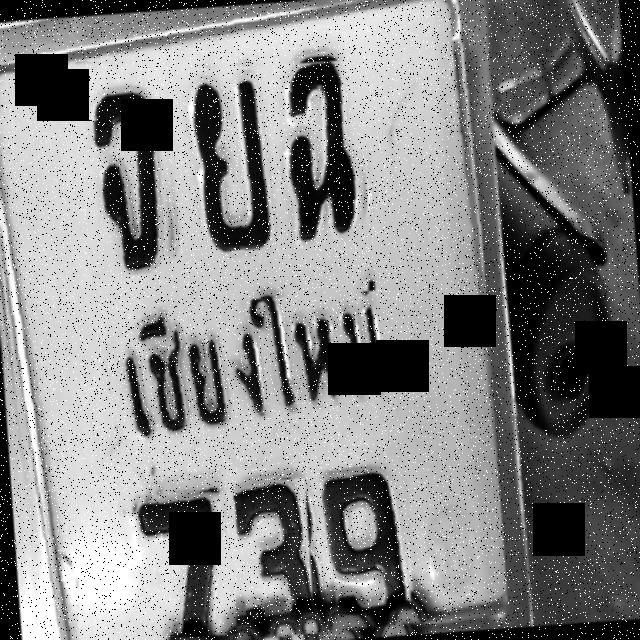letters: (76, 55, 186, 278), (172, 61, 285, 263), (272, 58, 379, 251), (115, 487, 236, 640), (315, 443, 412, 617), (232, 478, 314, 620)
license-plate: (0, 0, 508, 640)
province: (88, 289, 399, 436)
